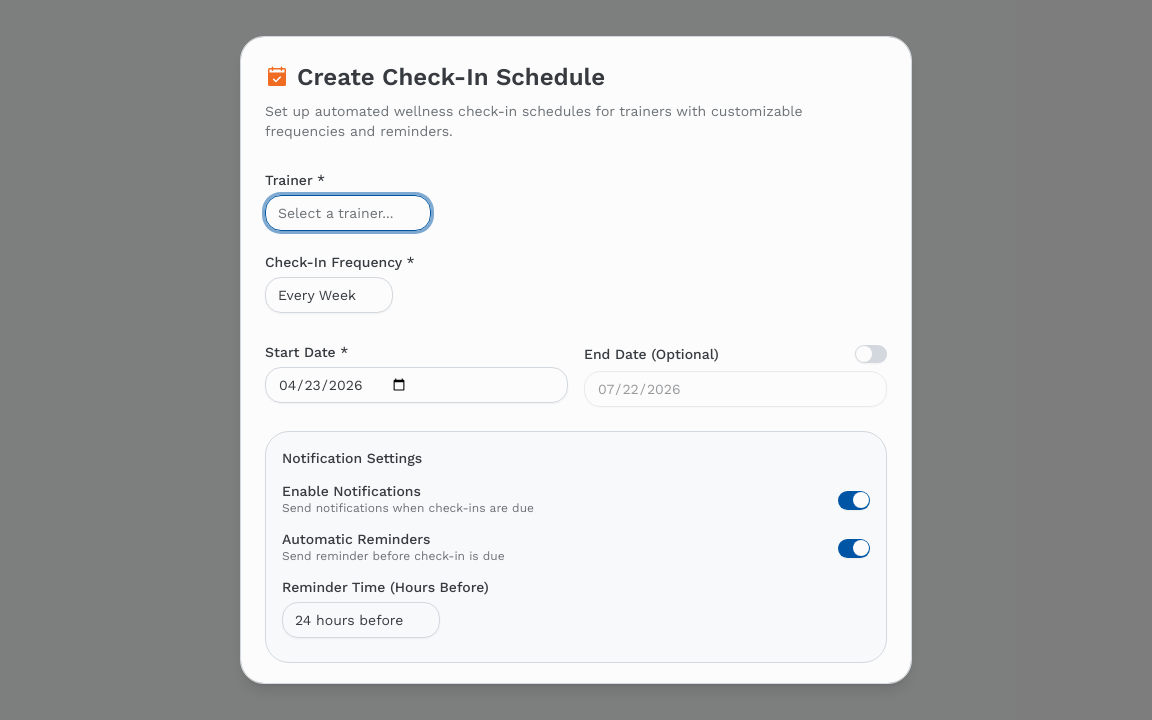
CheckInScheduleDialog › hides reminder hours when notifications are disabled
The image size is (1152, 720).
Expected: the dropdown named "reminder time" is shown, [282,602,440,638]
# Disable notifications
Click the switch named "enable notifications" in the row of "Enable Notifications" at [854, 500], box [838,491,870,510]
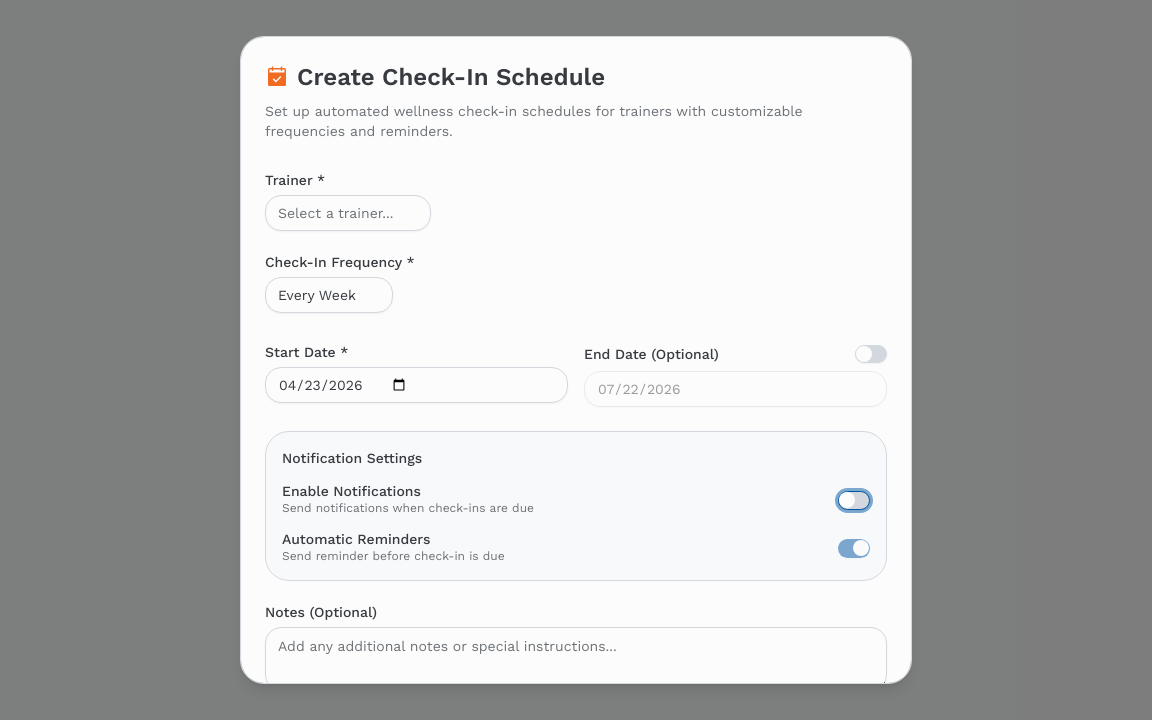
Result: the label labelled "Reminder Time" is gone
